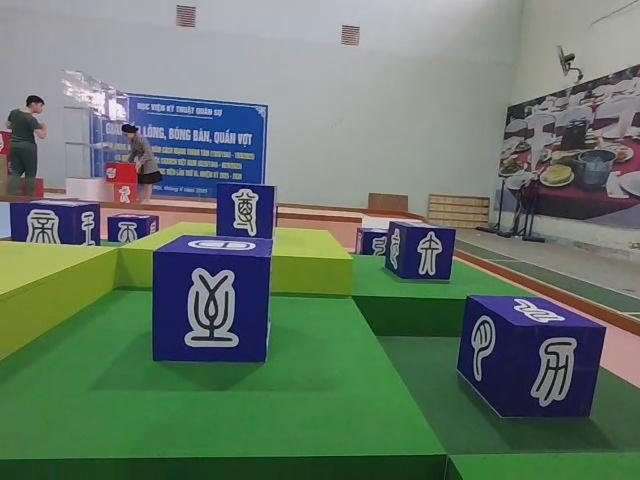R2 Fake Blue: (459, 298, 607, 423), (152, 236, 274, 366), (11, 199, 104, 247), (386, 222, 456, 284), (213, 183, 274, 242), (108, 212, 160, 242), (353, 229, 389, 258)
